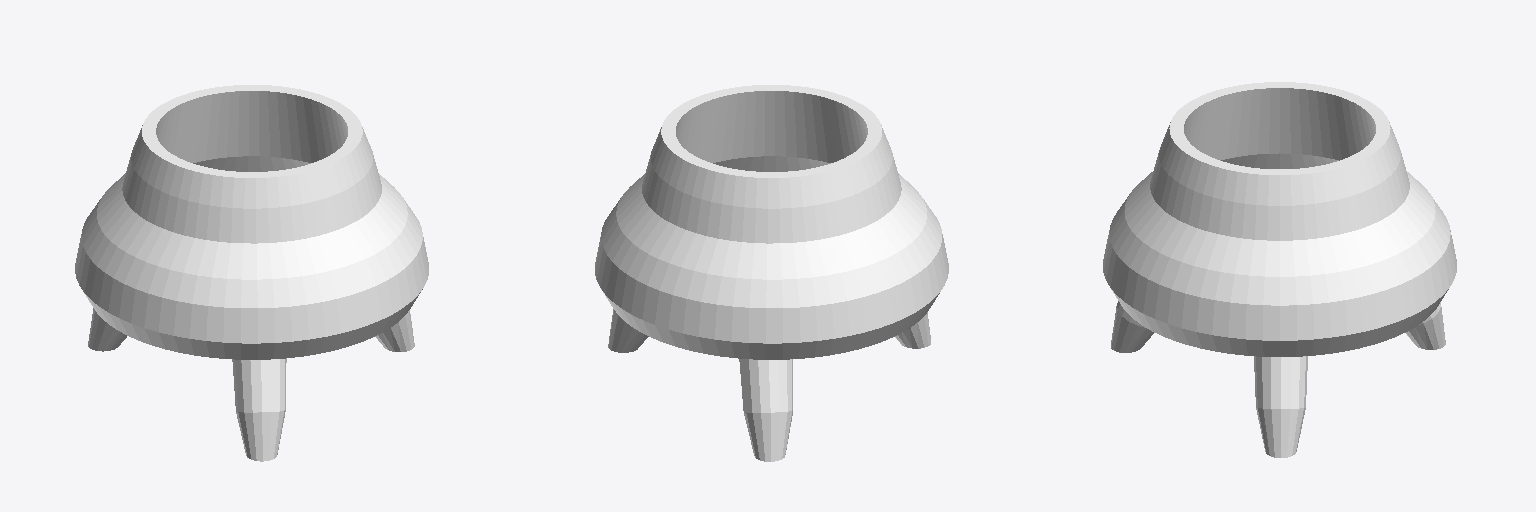
The model's file is cauldron.obj.
3 views of the same model, side by side, from view 1: azimuth 30°, elevation 25°; view 2: azimuth 150°, elevation 25°; view 3: azimuth 270°, elevation 25° (orthographic).
Parts seen in each view (by area): view 1: Cylinder; view 2: Cylinder; view 3: Cylinder.
Boxes of the visible parts, x1,y1,x2,y2 form: Cylinder: [75, 85, 428, 461]; Cylinder: [595, 85, 948, 461]; Cylinder: [1103, 82, 1456, 457].
Bounding box in the file's own units: 0.9894 × 0.754 × 0.9656.